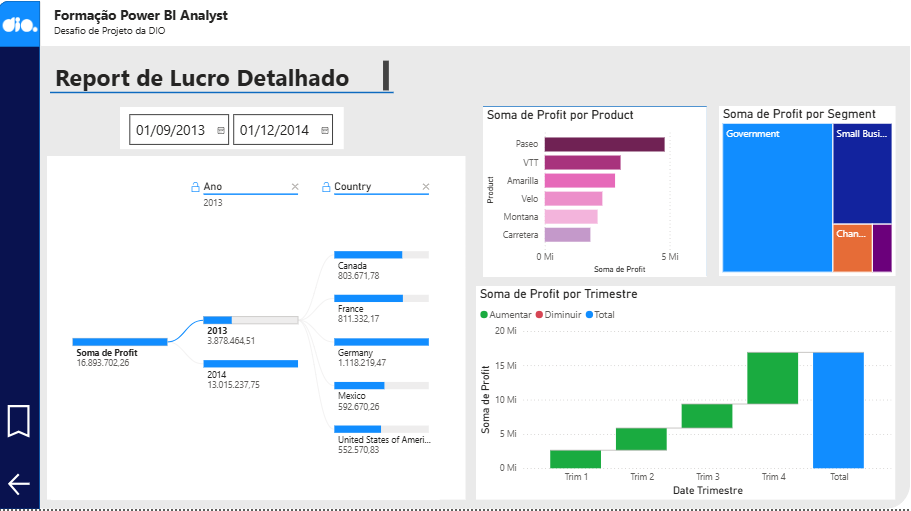

The dashboard page shown, as its layout file describes it:
{"tool":"powerbi","page":{"name":"Página 2","canvas":[1280,720],"ordinal":1},"visuals":[{"type":"shape","box":[42.6,20.7,1225.3,699.3],"z":0},{"type":"shape","box":[83.9,127.8,473,37.1],"z":0,"group":"g1"},{"type":"shape","box":[12.4,20.2,57.7,699.8],"z":1000},{"type":"textbox","box":[85.3,97.6,470.2,52.2],"z":1000,"group":"g1"},{"type":"shape","box":[12.4,20.6,57.7,63.2],"z":2000},{"type":"image","box":[13.7,33,57.7,39.9],"z":3000},{"type":"shape","title":"Fundo do Título","box":[71.5,20.6,1198.9,61.9],"z":4000},{"type":"textbox","title":"Título do report","box":[83.9,22,378.1,63.2],"z":5000},{"type":"shape","box":[79.7,233.7,576.1,473],"z":6000},{"type":"decompositionTreeVisual","fields":{"Analyze":["Sum(financials.Profit)"],"ExplainBy":["financials.Date.Variation.Hierarquia de datas.Ano","financials.Country"]},"box":[85.3,250.5,535.4,456.9],"z":7000},{"type":"waterfallChart","fields":{"Category":["financials.Date.Variation.Hierarquia de datas.Trimestre"],"Y":["Sum(financials.Profit)"]},"box":[670.9,412.5,577.4,294.2],"z":8000},{"type":"treemap","fields":{"Values":["Sum(financials.Profit)"],"Group":["financials.Segment"]},"box":[1005,165,243.4,233.7],"z":9000},{"type":"actionButton","box":[22,666.8,48.1,39.9],"z":10000},{"type":"group","id":"g1","title":"Sales report","box":[83.9,97.6,473,67.4],"z":11000},{"type":"actionButton","box":[12.8,545.8,57,105.5],"z":12000},{"type":"shape","box":[679.9,165.2,308.3,234],"z":13000},{"type":"slicer","fields":{"Values":["financials.Date"]},"box":[180.3,166.5,308.3,57.8],"z":14001},{"type":"clusteredBarChart","fields":{"Y":["Sum(financials.Profit)"],"Category":["financials.Product"]},"box":[679.9,166.5,308.3,234],"z":14002}]}

Visuals, with their boxes on the page's 1280x720 design canvas (x1, y1, x2, y2). These are canvas units, not pixel positions in the 911x511 screenshot, which may show the page scaled, cropped or inside an application window:
shape: x1=43 y1=21 x2=1268 y2=720
shape: x1=84 y1=128 x2=557 y2=165
shape: x1=12 y1=20 x2=70 y2=720
textbox: x1=85 y1=98 x2=556 y2=150
shape: x1=12 y1=21 x2=70 y2=84
image: x1=14 y1=33 x2=71 y2=73
"Fundo do Título" shape: x1=72 y1=21 x2=1270 y2=82
"Título do report" textbox: x1=84 y1=22 x2=462 y2=85
shape: x1=80 y1=234 x2=656 y2=707
decompositionTreeVisual - Sum(financials.Profit) x financials.Date.Variation.Hierarquia de datas.Ano: x1=85 y1=250 x2=621 y2=707
waterfallChart - financials.Date.Variation.Hierarquia de datas.Trimestre x Sum(financials.Profit): x1=671 y1=412 x2=1248 y2=707
treemap - Sum(financials.Profit) x financials.Segment: x1=1005 y1=165 x2=1248 y2=399
actionButton: x1=22 y1=667 x2=70 y2=707
"Sales report" group: x1=84 y1=98 x2=557 y2=165
actionButton: x1=13 y1=546 x2=70 y2=651
shape: x1=680 y1=165 x2=988 y2=399
slicer - financials.Date: x1=180 y1=166 x2=489 y2=224
clusteredBarChart - Sum(financials.Profit) x financials.Product: x1=680 y1=166 x2=988 y2=400
